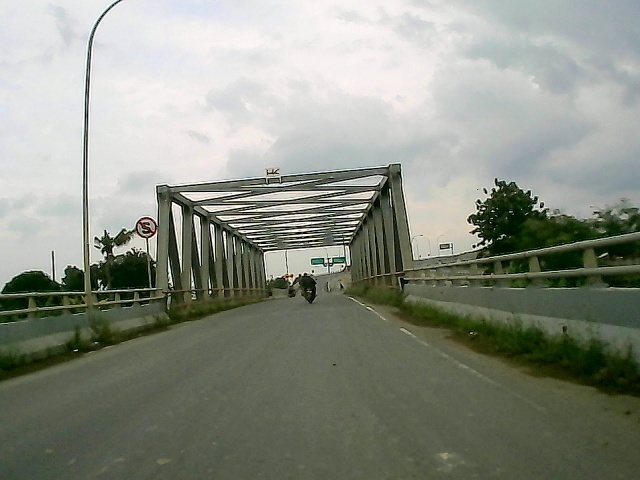Dilarang berhenti: (133, 216, 159, 242)
